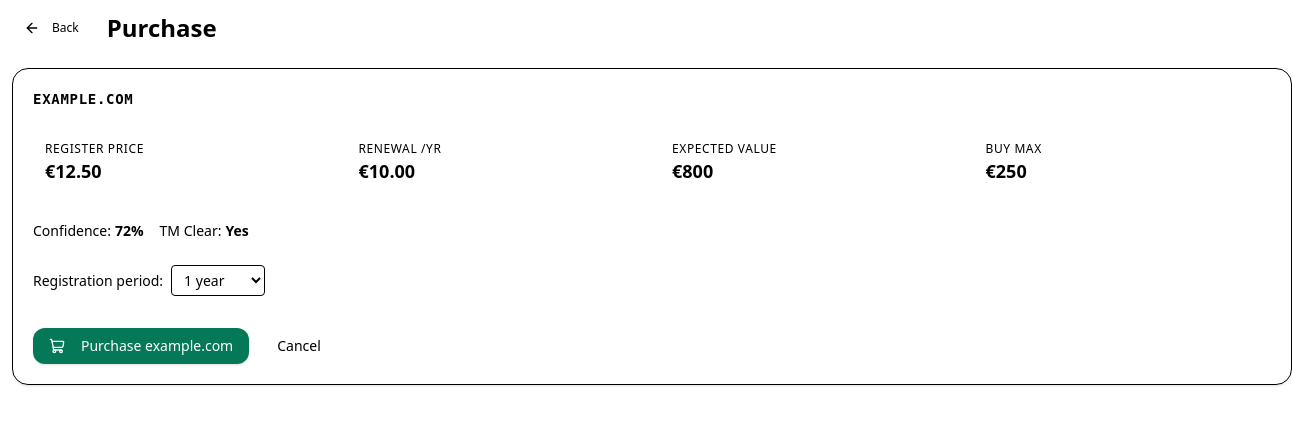
it: BuyPage › shows an error message when execution fails
Click the button "Purchase example.com": (141, 346) [33,328,249,364]
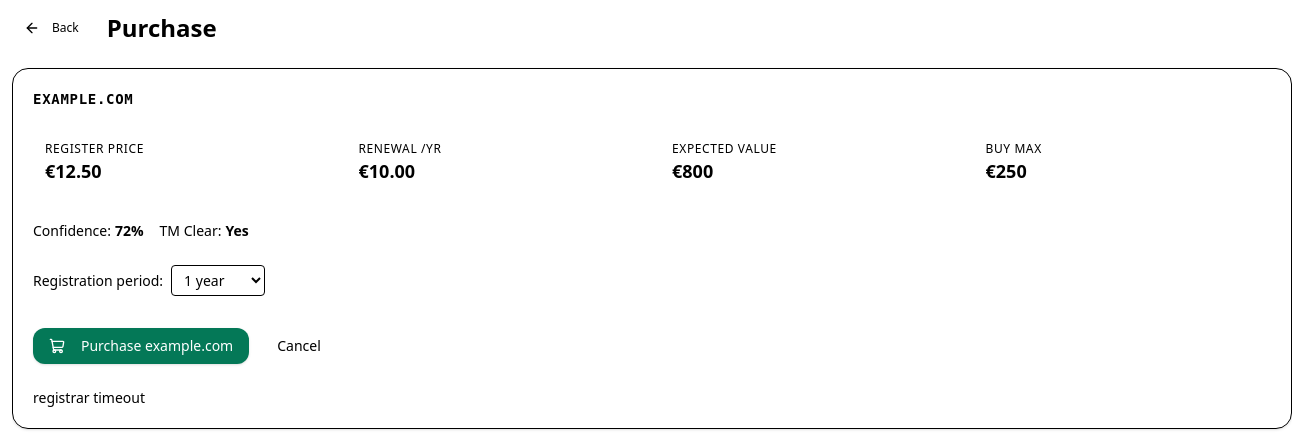
Result: the text "registrar timeout" is shown at [33,388,145,407]
